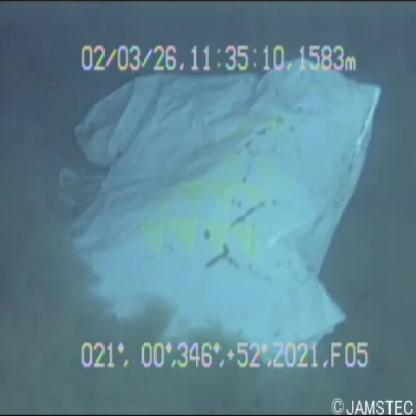Rác: (40, 53, 372, 371)
